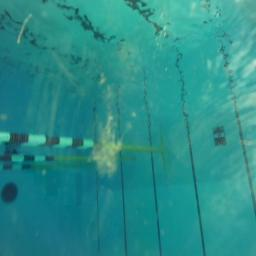Full: (212, 130, 226, 146)
